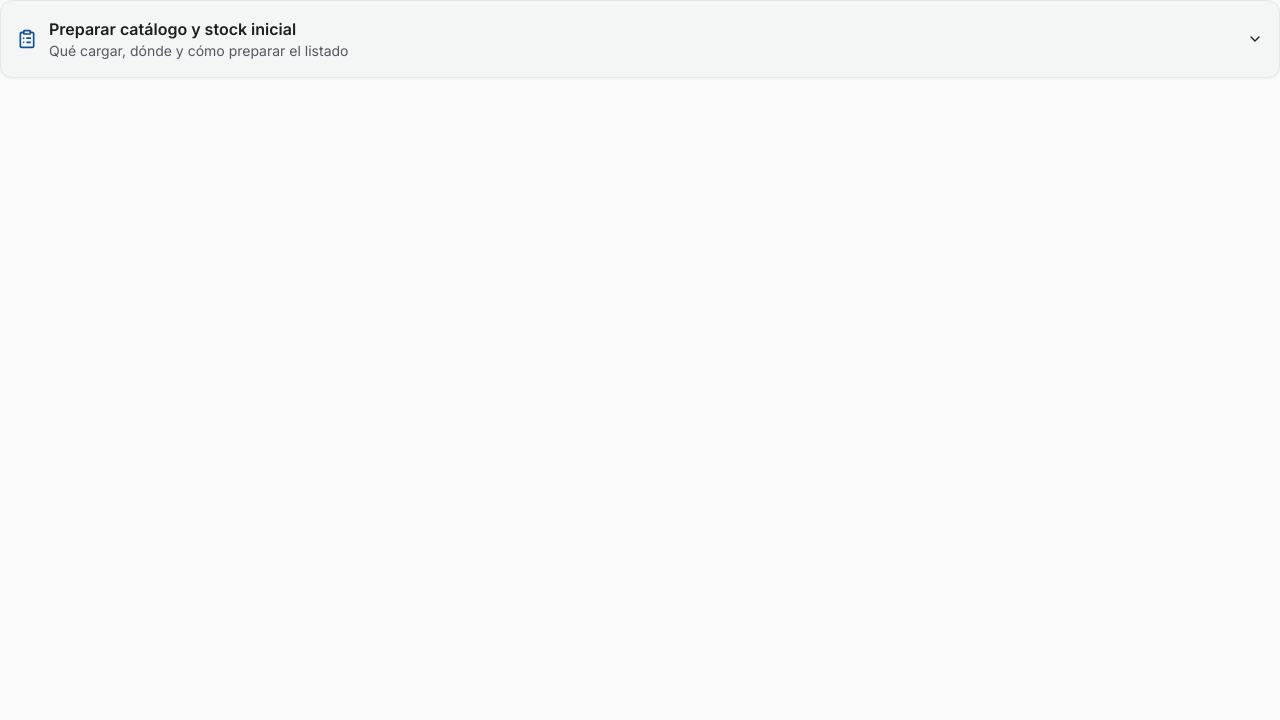
Test: explica la carga y enlaza los catálogos existentes sin crear platos ni tratamientos
Click the button "Preparar catálogo".
click(173, 29)  # box [1,1,1279,77]
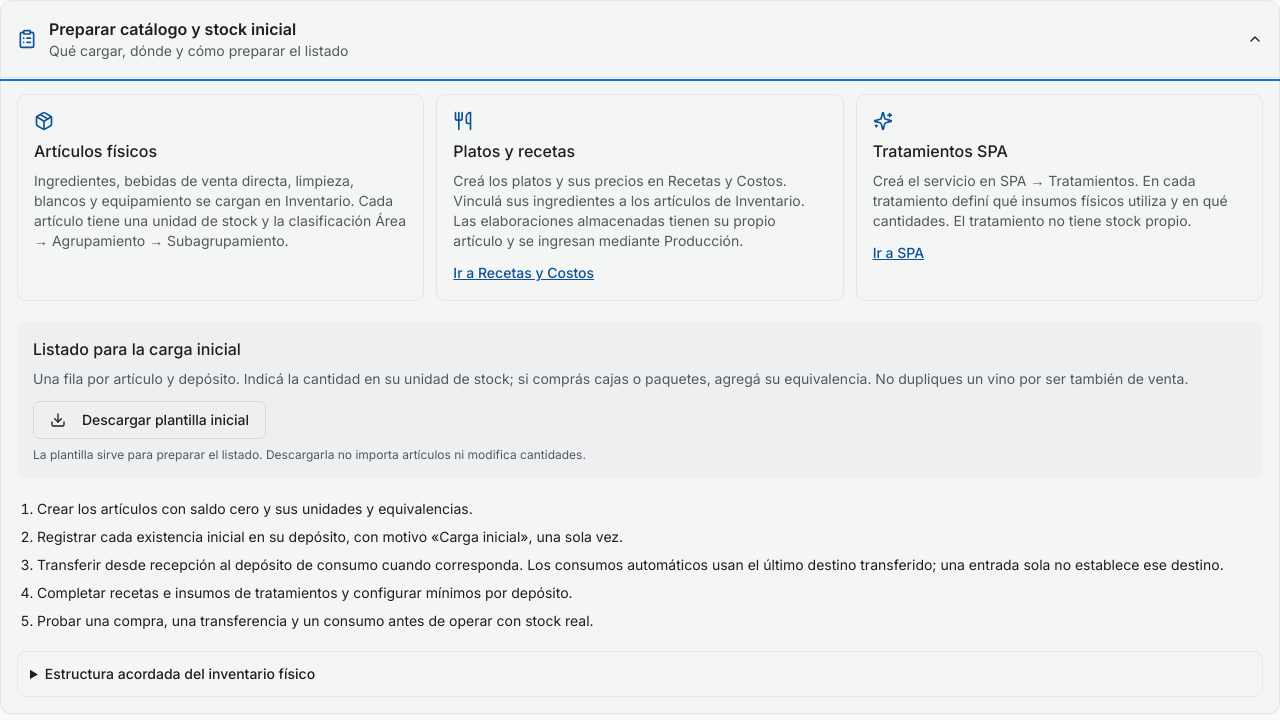
Expected: the text "Descargarla no importa artículos" is shown, [33,447,586,462]
Expected: the list item "una entrada sola no establece ese destino" is shown, [37,556,1224,573]
